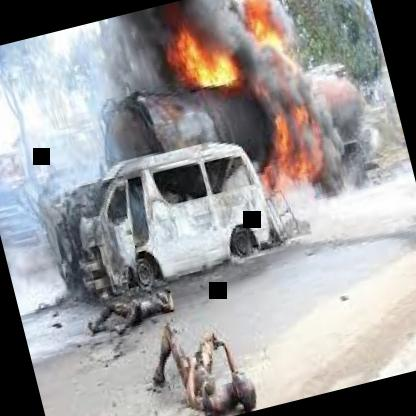accident: (40, 134, 238, 328)
fire: (140, 0, 361, 253)
